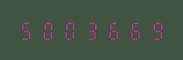five: (17, 20, 37, 40)
nine: (143, 20, 163, 40)
six: (101, 20, 121, 40), (122, 20, 142, 40)
three: (80, 20, 100, 40)
zero: (38, 20, 58, 40), (59, 20, 79, 40)
